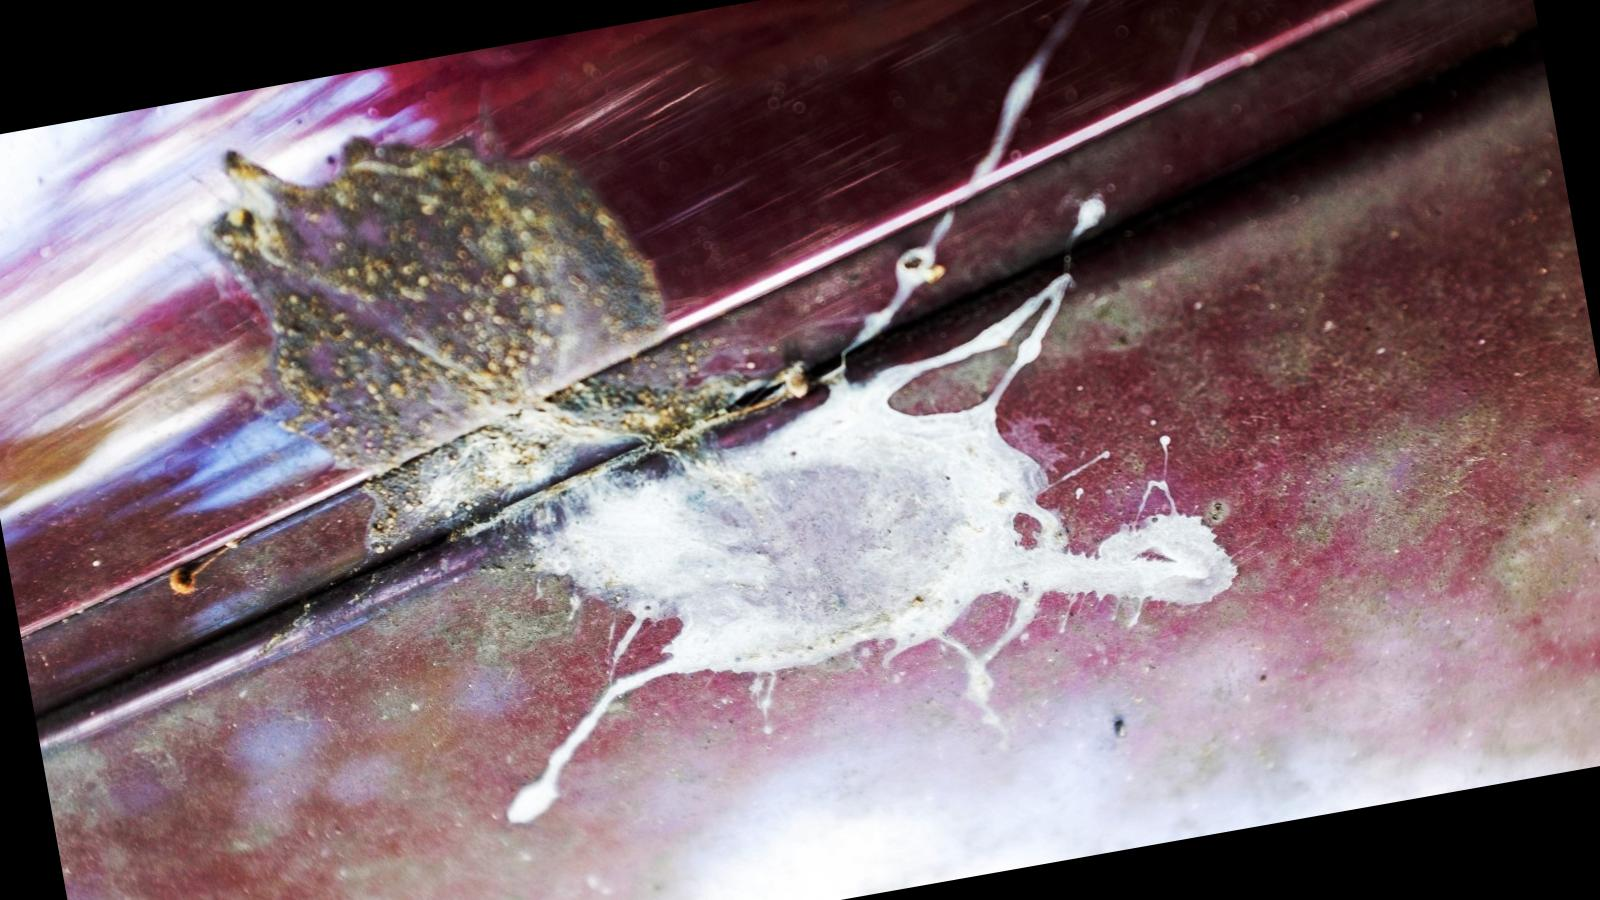Bird Poop: (205, 142, 1232, 821), (971, 0, 1089, 185), (840, 211, 954, 360)
